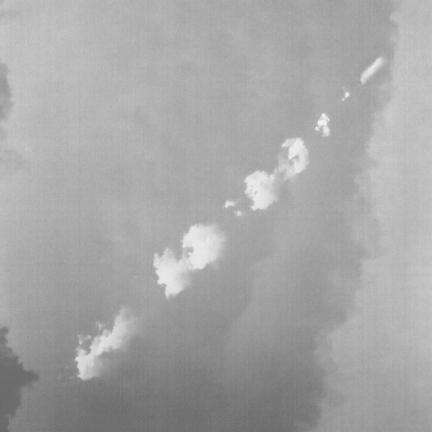flukeprints: (75, 309, 136, 380), (182, 224, 225, 268), (154, 250, 187, 297), (244, 171, 277, 209), (282, 138, 308, 175), (360, 57, 384, 83), (315, 113, 329, 137), (224, 200, 236, 208), (342, 88, 350, 100), (234, 210, 242, 217)
